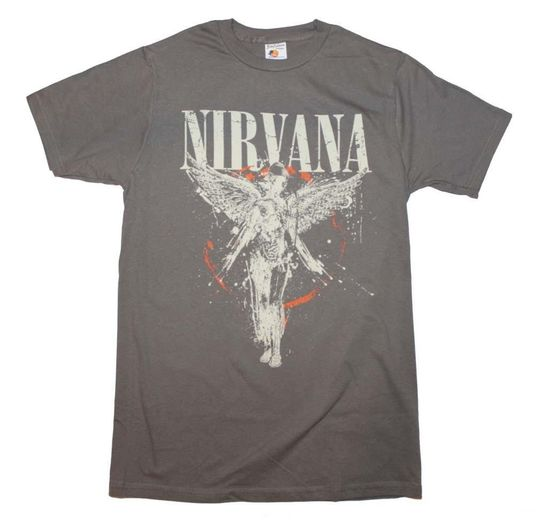design: (177, 106, 378, 371)
